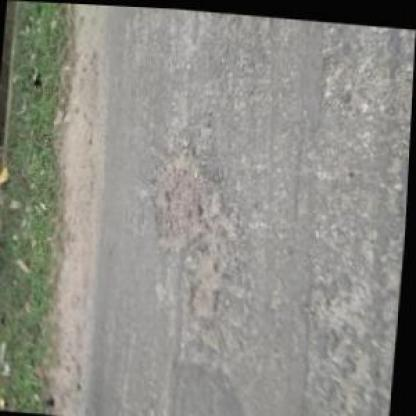pothole: (134, 139, 250, 318)
